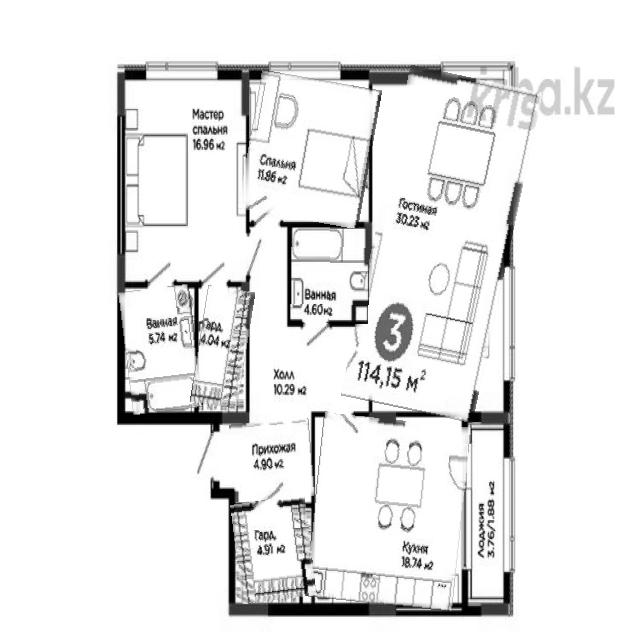bathroom: (122, 286, 199, 414), (290, 227, 369, 324)
hallway: (231, 420, 313, 500)
kitchen: (310, 415, 466, 608)
living_room: (357, 70, 526, 418), (124, 75, 244, 279), (244, 74, 377, 225)
other: (233, 498, 314, 602), (194, 287, 251, 407)
